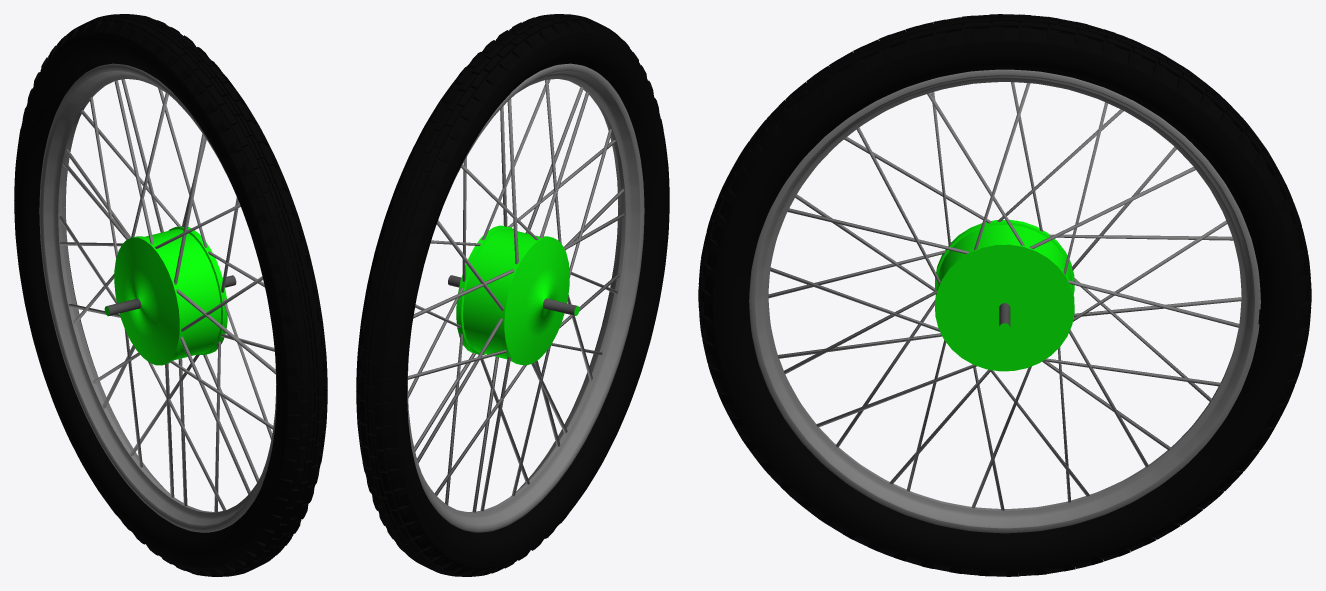
The model's file is WheelF.fbx.
3 renders of one model, left to right at view 1: azimuth 30°, elevation 25°; view 2: azimuth 150°, elevation 25°; view 3: azimuth 270°, elevation 25°, orthographic. The views are drawn at different scales.
Visible parts, largest first — view 1: Cube.006; view 2: Cube.006; view 3: Cube.006.
Boxes of the visible parts, x1,y1,x2,y2 form: Cube.006: (14, 14, 327, 576); Cube.006: (356, 14, 669, 576); Cube.006: (698, 14, 1311, 576).
Bounding box in the file's own units: 172 × 677 × 677.
